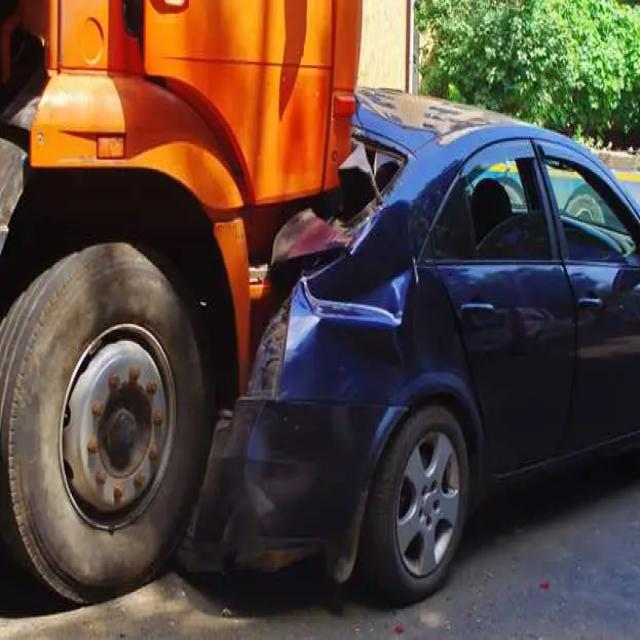car-moderate-accident: (0, 2, 638, 634)
